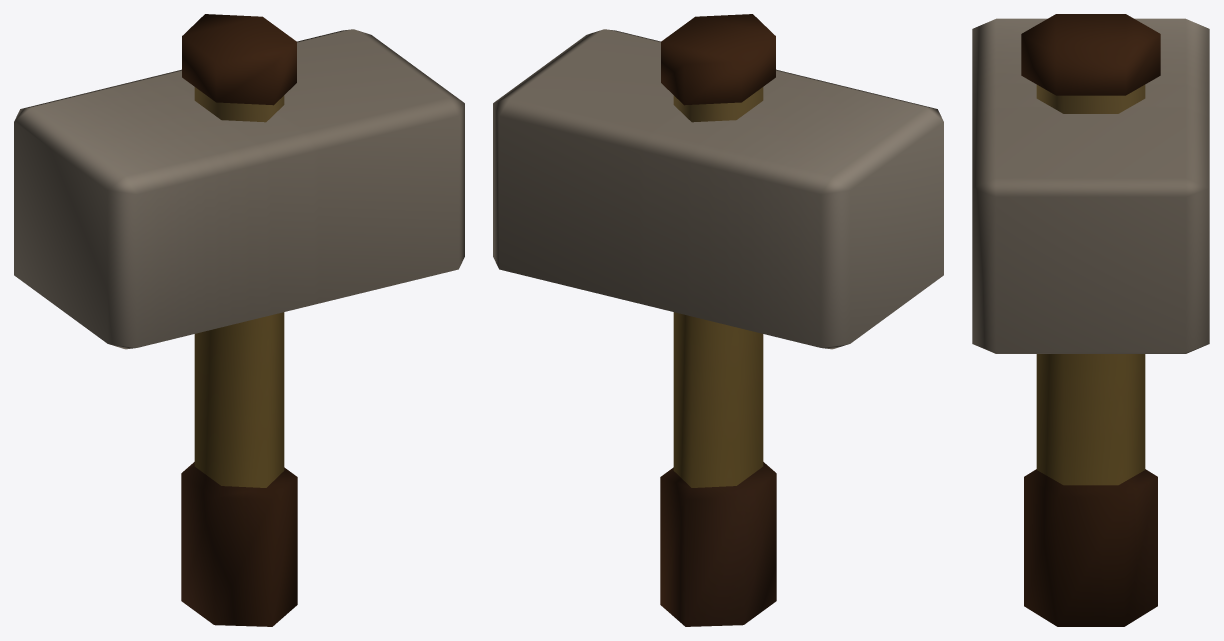
The model's file is Mallet.fbx.
3 views of the same model, side by side, from view 1: azimuth 30°, elevation 25°; view 2: azimuth 150°, elevation 25°; view 3: azimuth 270°, elevation 25° (orthographic).
Parts seen in each view (by area): view 1: Mallet; view 2: Mallet; view 3: Mallet.
Boxes of the visible parts, bbox=[...] form: Mallet: bbox=[14, 14, 464, 626]; Mallet: bbox=[493, 14, 943, 626]; Mallet: bbox=[972, 14, 1209, 626].
Size of the model in its own units: 0.3 by 0.4521 by 0.17.
1 material, 1 textured.
